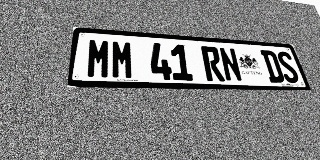1: (169, 44, 193, 81)
4: (149, 42, 173, 80)
D: (260, 50, 286, 83)
M: (86, 38, 111, 79), (111, 40, 134, 79)
N: (218, 47, 243, 82)
R: (200, 46, 225, 81)
S: (275, 51, 301, 83)
